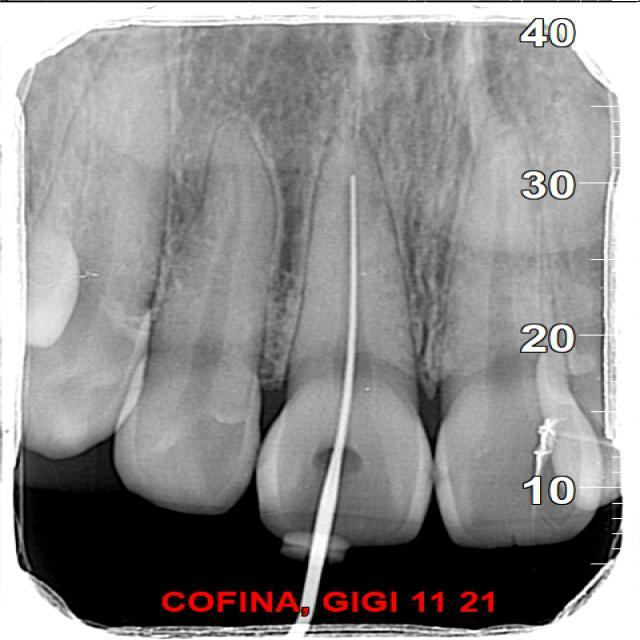individual-tooth-8tto: (3, 22, 178, 450), (253, 127, 429, 547), (119, 122, 284, 513)
